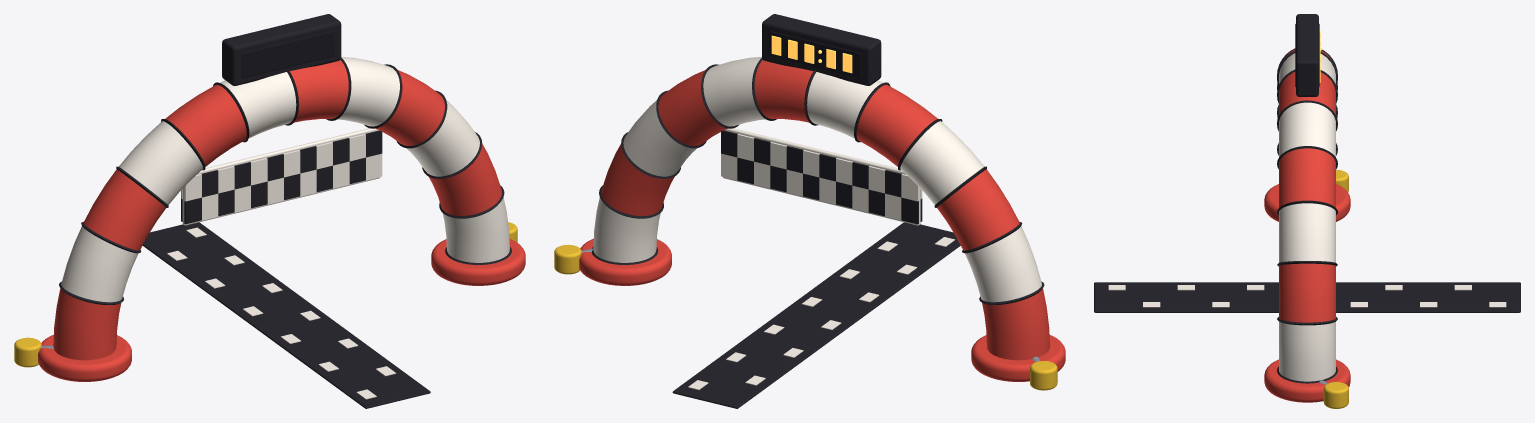
File: finish_arch.glb
3 views of the same model, side by side, from view 1: azimuth 30°, elevation 25°; view 2: azimuth 150°, elevation 25°; view 3: azimuth 270°, elevation 25° (orthographic). The views are drawn at different scales.
Visible parts, largest first — view 1: finish_arch; view 2: finish_arch; view 3: finish_arch.
Part boxes in pixels (x1,y1,x2,y2): finish_arch: [14, 14, 525, 408]; finish_arch: [554, 14, 1065, 408]; finish_arch: [1094, 14, 1520, 408].
Size of the model in its own units: 9.14 by 5 by 7.4.
1 material, 1 textured.
